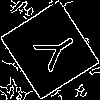Y: (25, 25, 82, 79)
